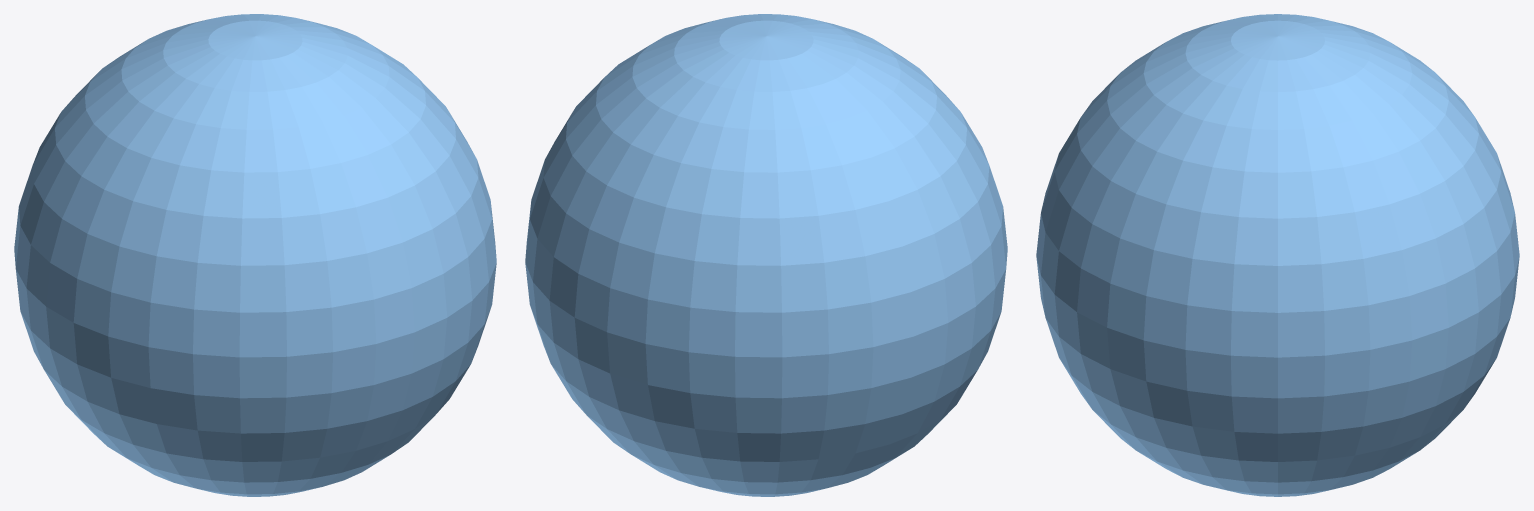
The picture shows the model from 3 angles, left to right: view 1: azimuth 30°, elevation 25°; view 2: azimuth 150°, elevation 25°; view 3: azimuth 270°, elevation 25°; orthographic projection.
Parts seen in each view (by area): view 1: -3.000; view 2: -3.000; view 3: -3.000.
Boxes of the visible parts, x1,y1,x2,y2 form: -3.000: [14, 14, 496, 496]; -3.000: [525, 14, 1007, 496]; -3.000: [1036, 14, 1519, 496].
Size of the model in its own units: 0.0456 by 0.0456 by 0.0456.
